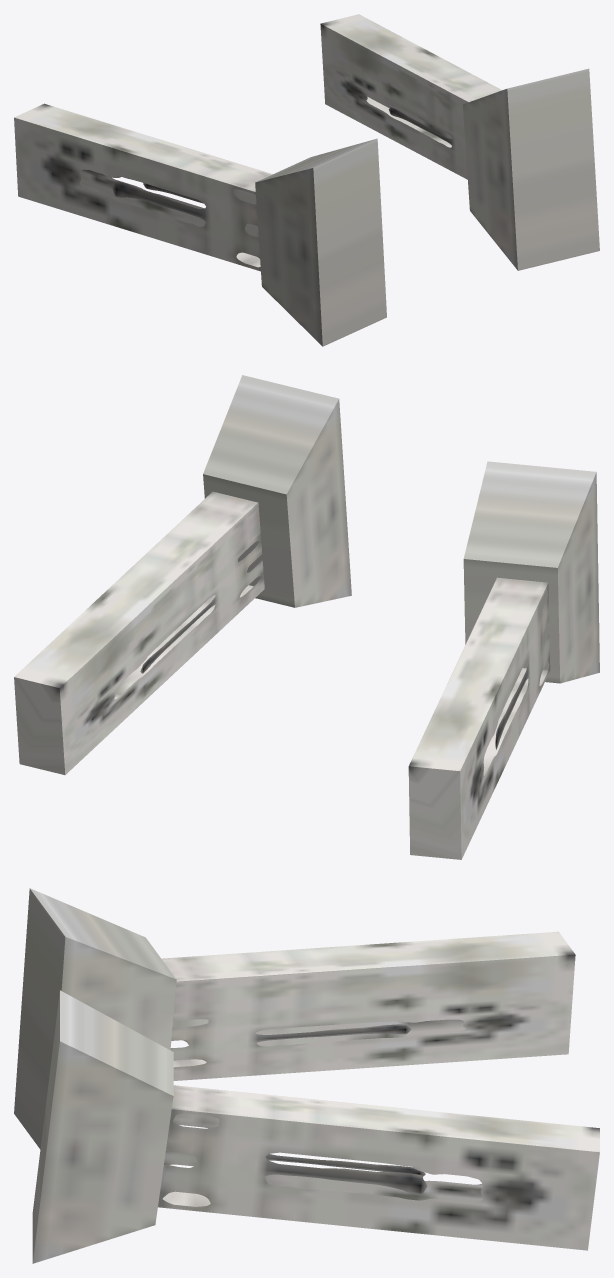
File: poi_r4_leg_l3.fbx
The picture shows the model from 3 angles, top to bottom: view 1: azimuth 30°, elevation 25°; view 2: azimuth 150°, elevation 25°; view 3: azimuth 270°, elevation 25°; orthographic projection. The views are drawn at different scales.
Visible parts, largest first — view 1: mesh_node; view 2: mesh_node; view 3: mesh_node.
Part boxes in pixels (<box>): mesh_node: <box>14,14,599,346</box>; mesh_node: <box>14,375,599,859</box>; mesh_node: <box>14,888,599,1263</box>.
Size of the model in its own units: 0.8191 by 0.4032 by 0.8582.
Materials: 1 (1 with a texture image).
